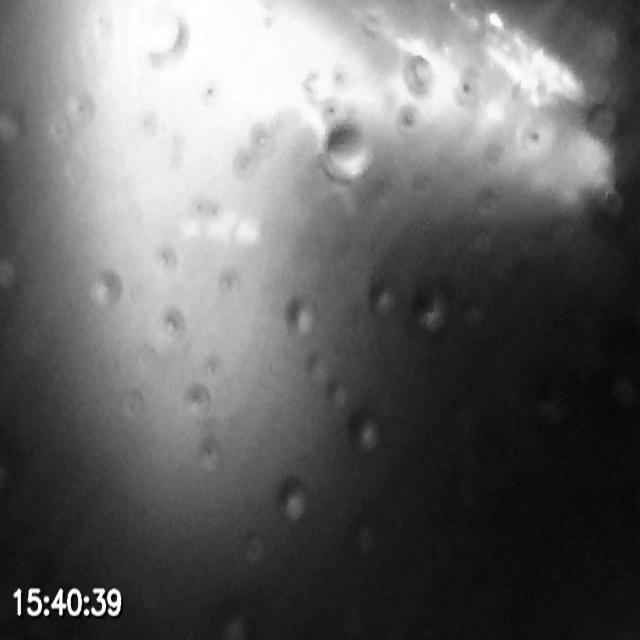white-dots: (176, 208, 262, 244)
